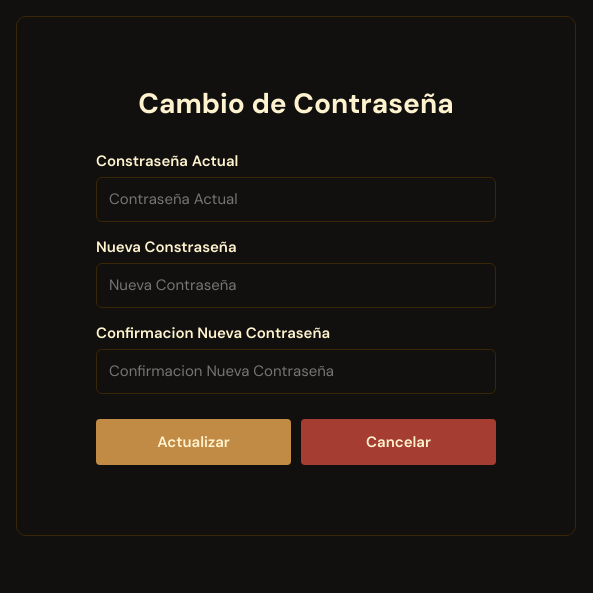
Vista CambiarPsswd - handleChange y handleCambiarClave › muestra el error del servidor y no redirige
The image size is (593, 593).
Step 1. Type "equivocada" into the password field with placeholder "Contraseña Actual" → (296, 199), box [96,177,496,222]
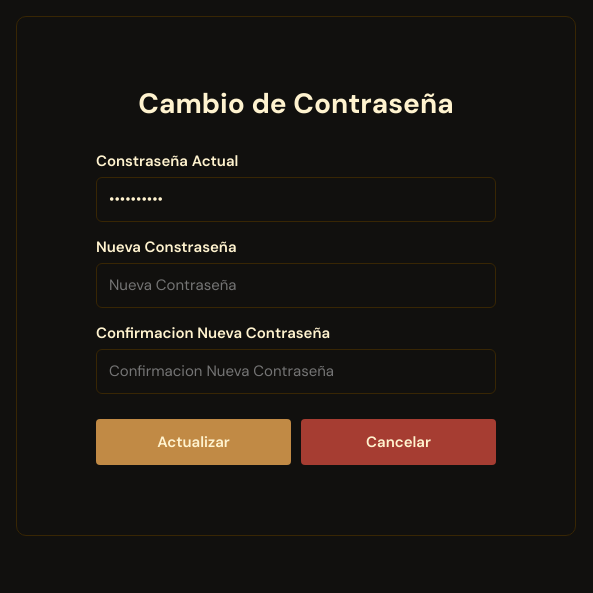
Step 2. Type "nueva1234" into the password field with placeholder "Nueva Contraseña" → (296, 285), box [96,263,496,308]
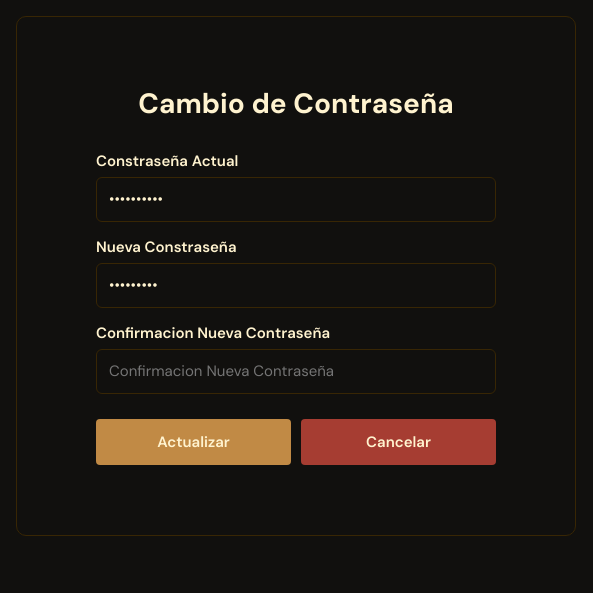
Step 3. Type "nueva1234" into the password field with placeholder "Confirmacion Nueva Contraseña" → (296, 371), box [96,349,496,394]
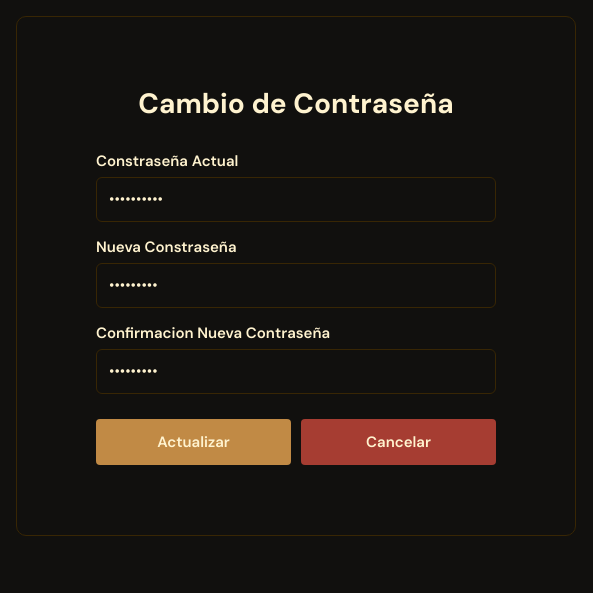
Step 4. Click the button "Actualizar" → (194, 442), box [96,419,291,465]
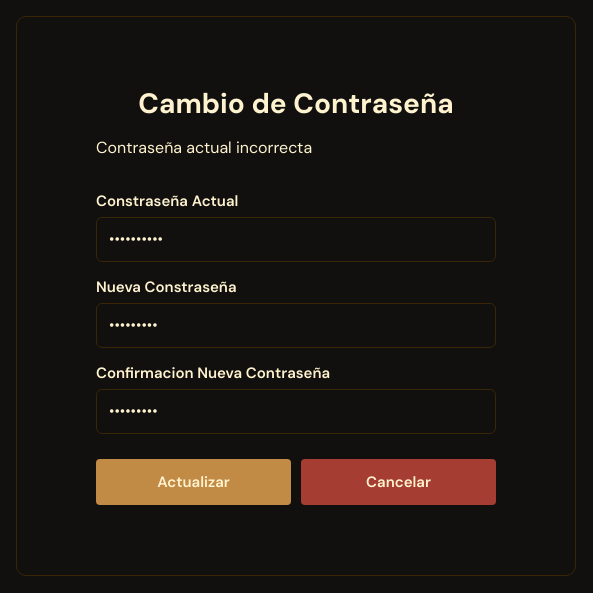
Expected: the text "Contraseña actual incorrecta" is shown, [96,137,312,158]
